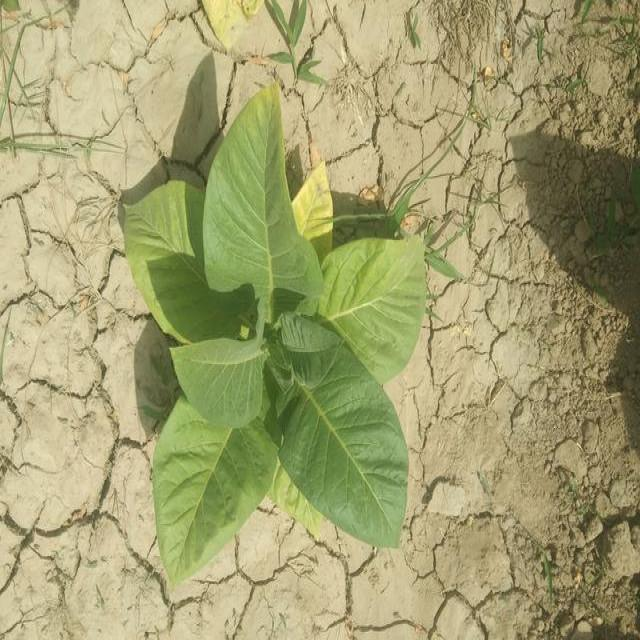crop: (138, 110, 410, 555)
